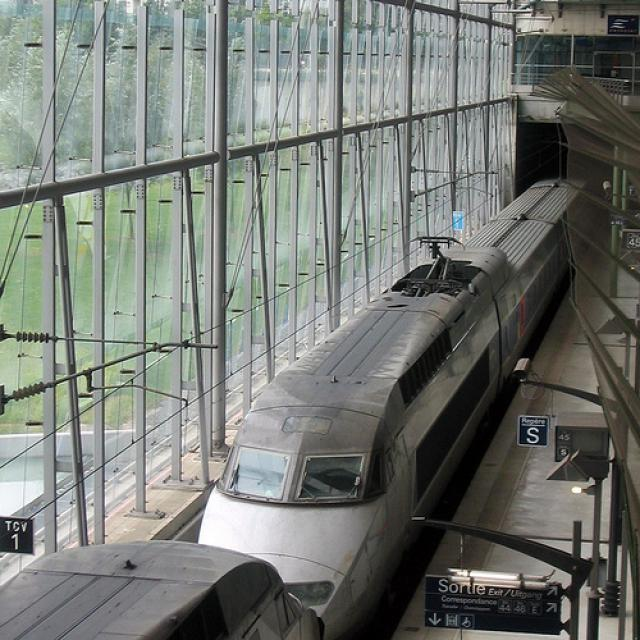2001: (415, 346, 489, 502), (227, 444, 288, 497), (297, 453, 364, 498)
platform: (387, 207, 637, 637)
sign: (425, 572, 558, 636), (517, 415, 547, 445)
train crop: (196, 174, 607, 637)
train occluded: (1, 539, 319, 637)
tunnel: (515, 123, 609, 205)
wall clock: (515, 0, 637, 209)
